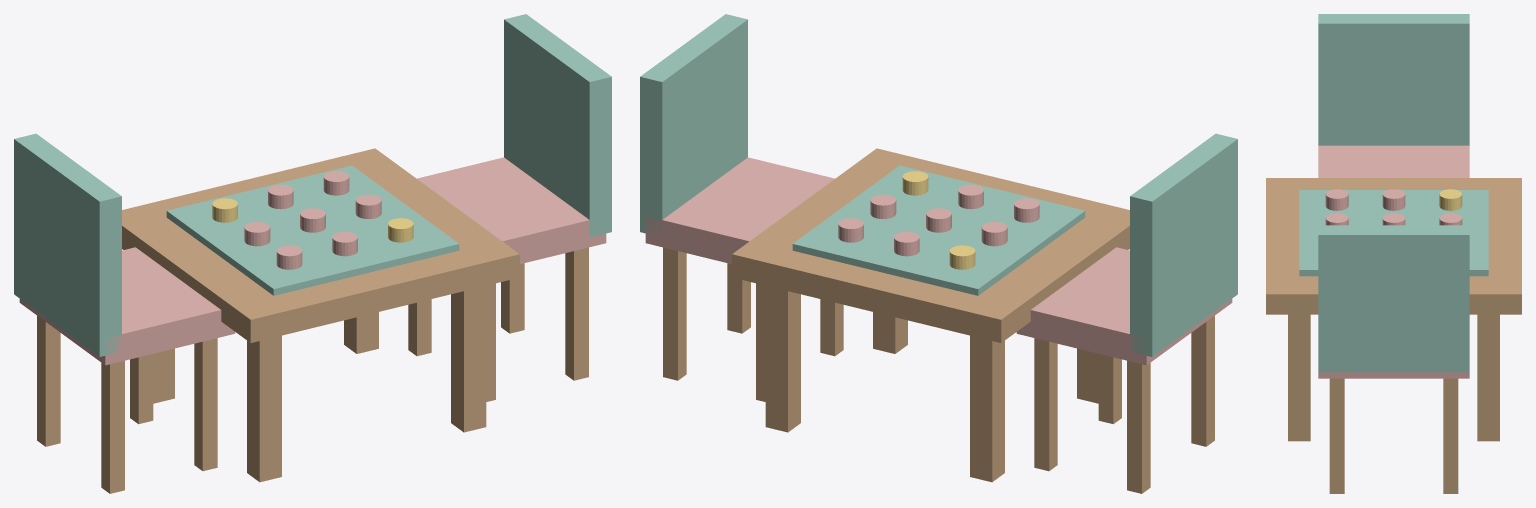
File: table-games.glb
3 views of the same model, side by side, from view 1: azimuth 30°, elevation 25°; view 2: azimuth 150°, elevation 25°; view 3: azimuth 270°, elevation 25° (orthographic). The views are drawn at different scales.
Parts seen in each view (by area): view 1: game table, chair back.005, chair back, game board, chair leg.003, chair seat, chair seat.005, chair leg.008, playing piece.001, playing piece; view 2: game table, chair back.005, chair back, game board, chair leg.003, chair seat, chair seat.005, chair leg.008, playing piece.001, playing piece; view 3: chair back, chair back.005, game table, game board, chair seat.005, chair leg.008, playing piece.001, chair seat, playing piece.
Part boxes in pixels (left/top/right/bottom): game table: left=122, top=148, right=519, bottom=482; chair back.005: left=14, top=133, right=121, bottom=356; chair back: left=504, top=14, right=611, bottom=237; game board: left=166, top=165, right=459, bottom=295; chair leg.003: left=37, top=315, right=217, bottom=493; chair seat: left=417, top=157, right=606, bottom=263; chair seat.005: left=19, top=247, right=235, bottom=365; chair leg.008: left=408, top=247, right=588, bottom=401; playing piece.001: left=244, top=171, right=381, bottom=269; playing piece: left=212, top=198, right=413, bottom=242; game table: left=732, top=148, right=1129, bottom=482; chair back.005: left=1130, top=133, right=1237, bottom=356; chair back: left=640, top=14, right=747, bottom=236; game board: left=792, top=165, right=1085, bottom=295; chair leg.003: left=1034, top=315, right=1214, bottom=493; chair seat: left=645, top=157, right=834, bottom=263; chair seat.005: left=1016, top=247, right=1232, bottom=365; chair leg.008: left=663, top=247, right=843, bottom=401; playing piece.001: left=838, top=184, right=1039, bottom=256; playing piece: left=902, top=171, right=975, bottom=269; chair back: left=1318, top=225, right=1469, bottom=372; chair back.005: left=1318, top=14, right=1469, bottom=145; game table: left=1266, top=178, right=1521, bottom=441; game board: left=1299, top=190, right=1488, bottom=276; chair seat.005: left=1318, top=145, right=1469, bottom=177; chair leg.008: left=1329, top=378, right=1458, bottom=493; playing piece.001: left=1325, top=189, right=1462, bottom=225; chair seat: left=1318, top=372, right=1469, bottom=378; playing piece: left=1439, top=189, right=1462, bottom=210.
Size of the model in its own units: 2.76 by 1.56 by 1.35.
